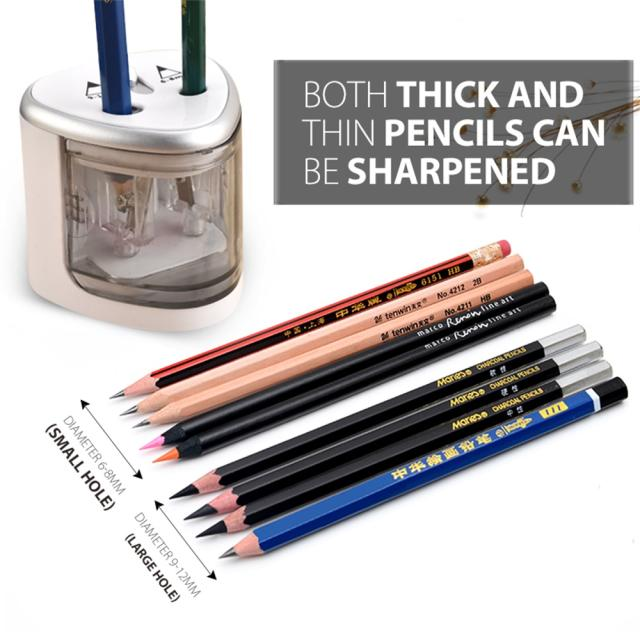pencil_sharpener: (0, 0, 265, 340)
